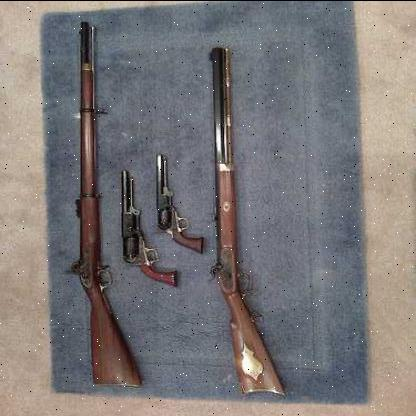rifle: (169, 37, 317, 395), (52, 10, 148, 390)
